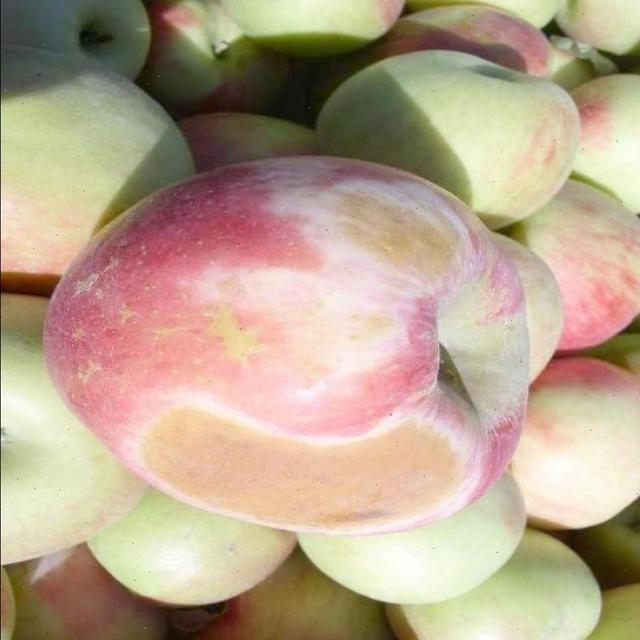Sunscald Fruit: (81, 258, 322, 365)
